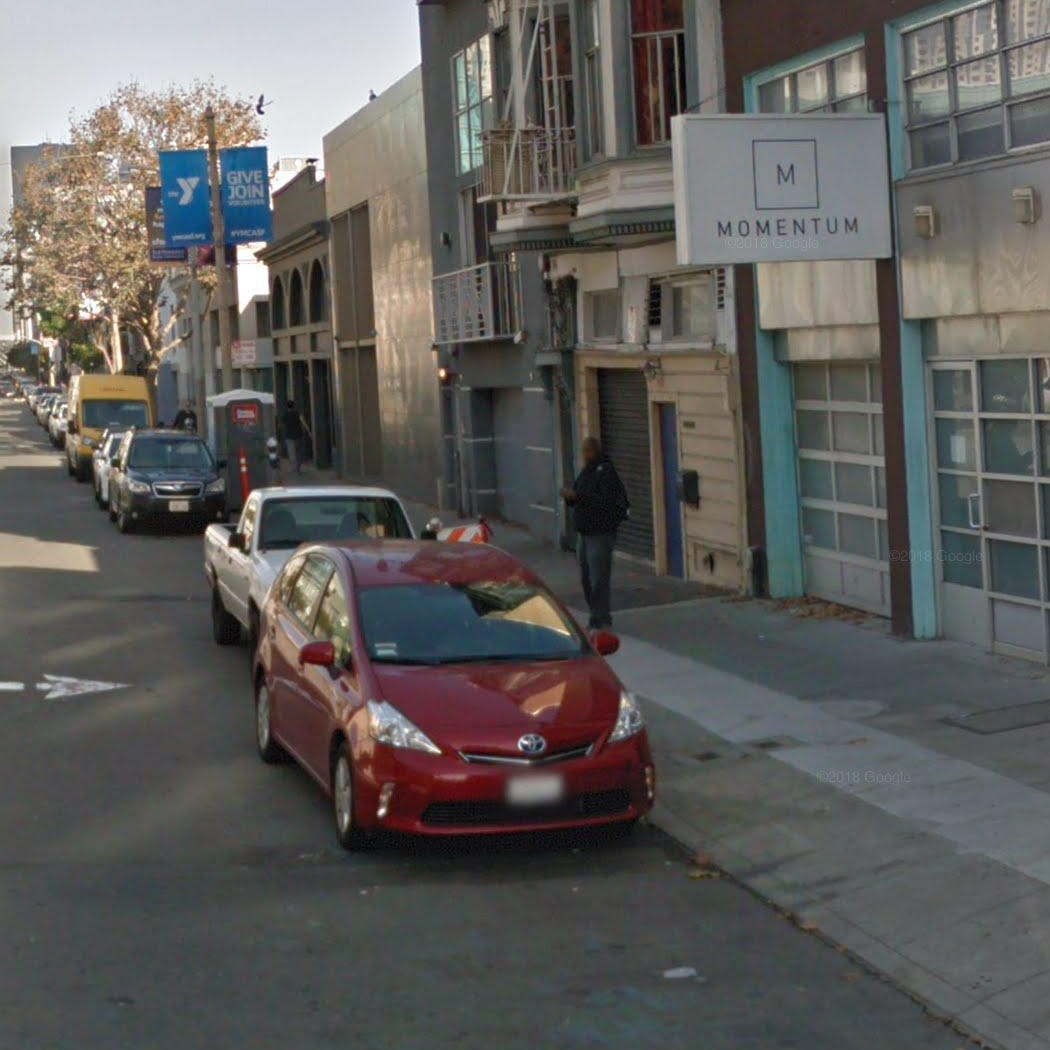No Parking: (229, 339, 258, 369)
